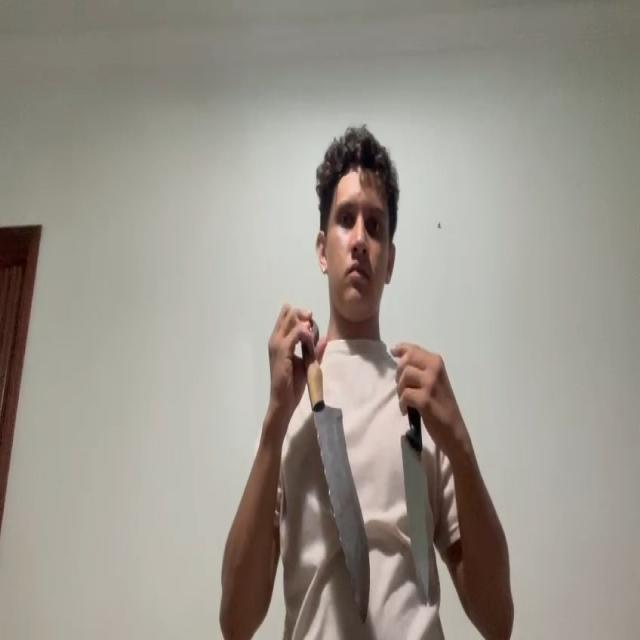knife: (313, 402, 370, 618), (400, 438, 429, 600)
